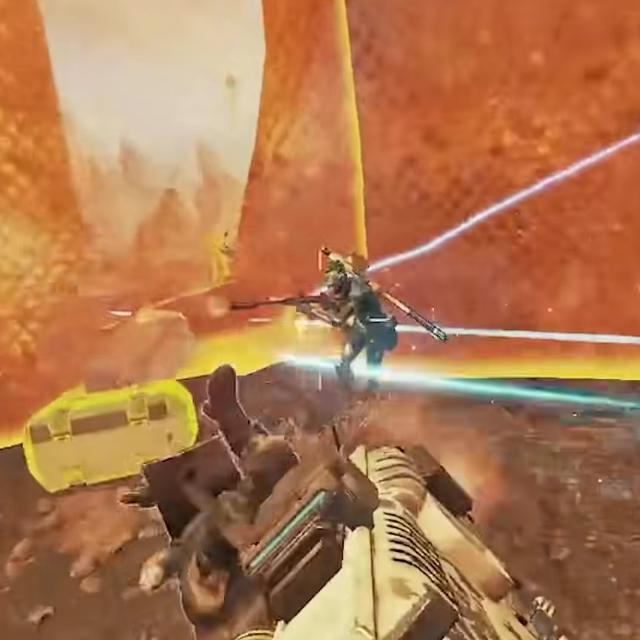avatar: (302, 259, 399, 396)
